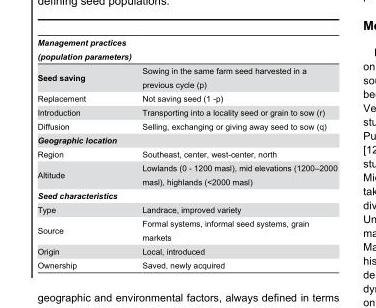table: (36, 37, 336, 269)
table column: (136, 37, 336, 269), (36, 37, 136, 269)
table column header: (36, 37, 336, 63)
table projected row header: (36, 132, 336, 146), (36, 188, 336, 202)
table row: (36, 63, 336, 91), (36, 160, 336, 188), (36, 216, 336, 243), (36, 37, 336, 63), (36, 104, 336, 118), (36, 118, 336, 132), (36, 132, 336, 146), (36, 146, 336, 160), (36, 188, 336, 202), (36, 202, 336, 216), (36, 243, 336, 257), (36, 91, 336, 104), (36, 257, 336, 269)
